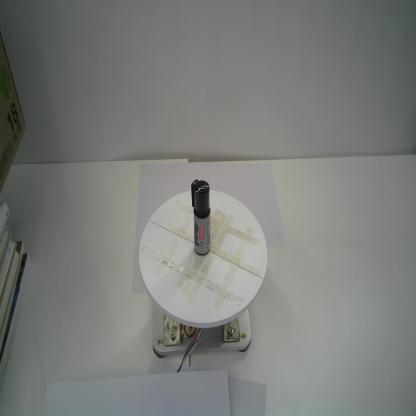Stationery: (191, 178, 211, 256)
